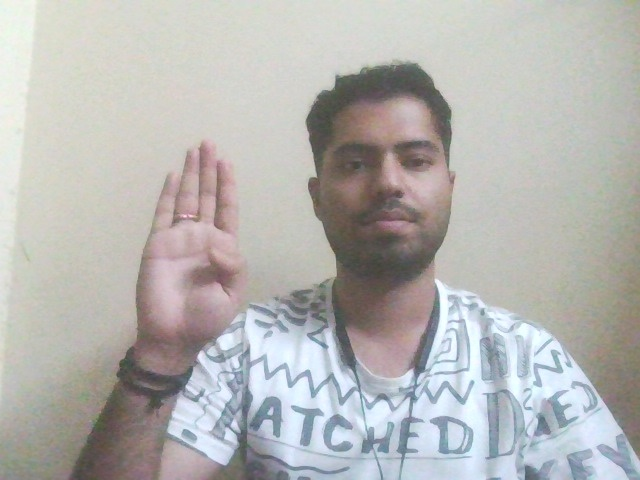B: (108, 129, 282, 349)
